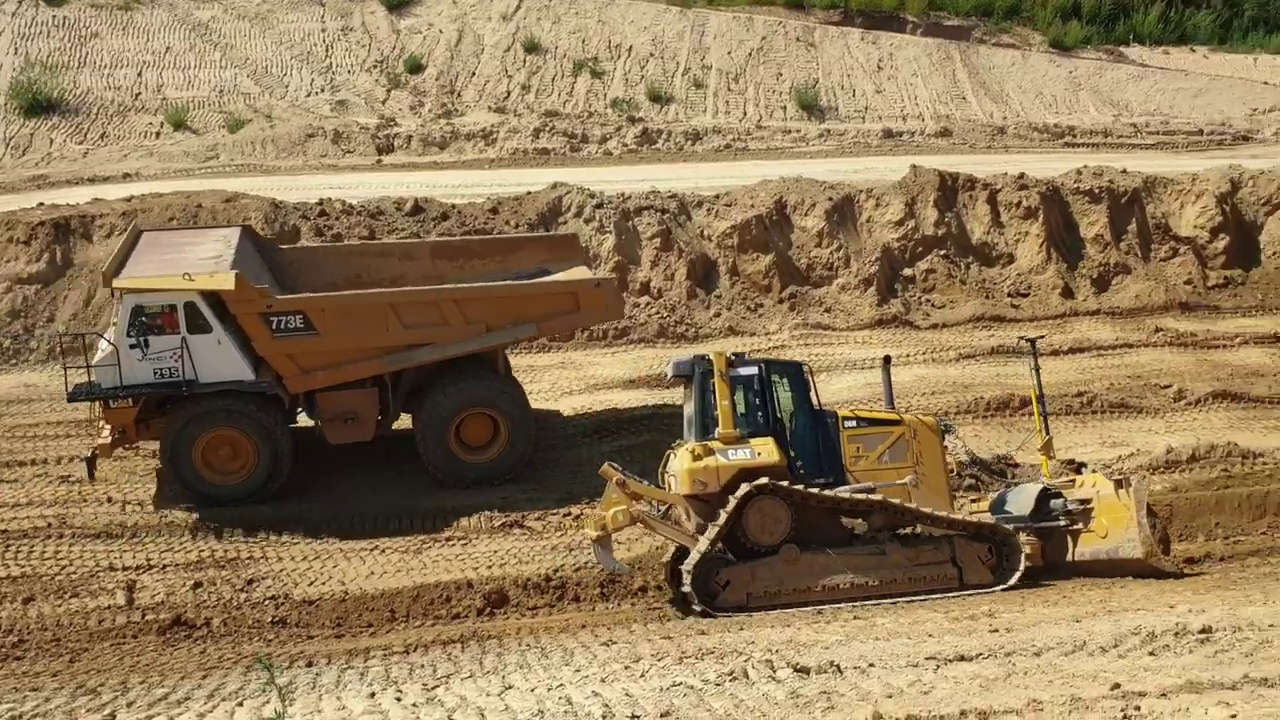bulldozer: (578, 330, 1185, 621)
truck: (53, 219, 629, 513)
